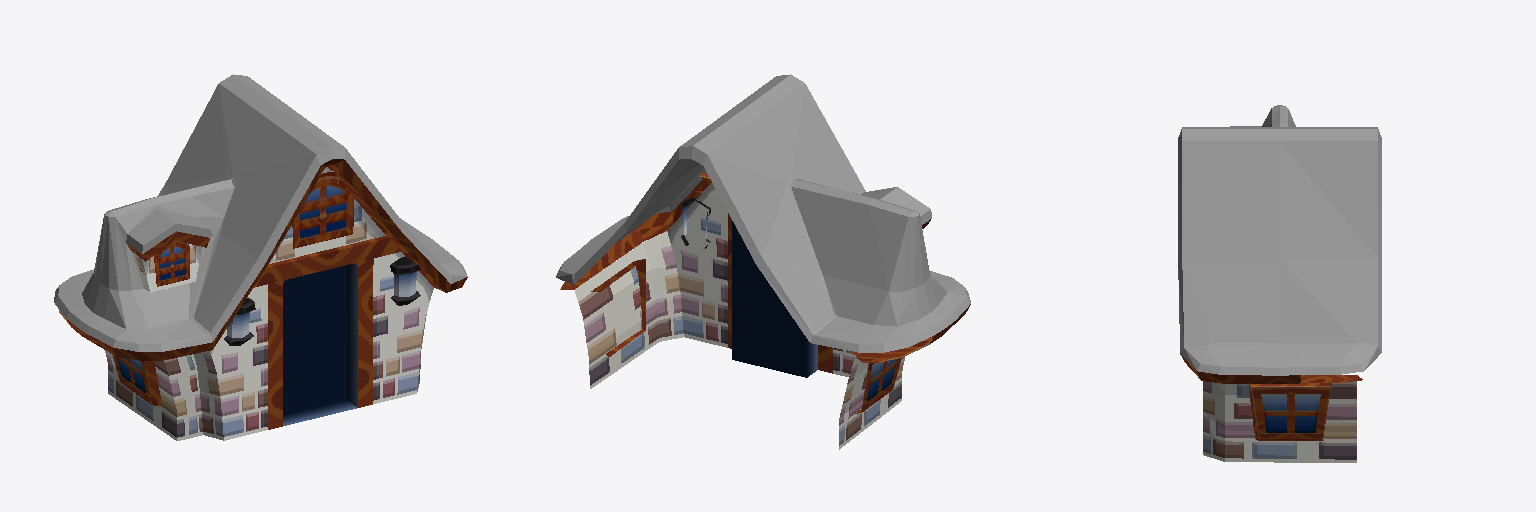
3 renders of one model, left to right at view 1: azimuth 30°, elevation 25°; view 2: azimuth 150°, elevation 25°; view 3: azimuth 270°, elevation 25°, orthographic.
Parts seen in each view (by area): view 1: vsn_mesh_0__mesh_0_.011, vsn_mesh_2__mesh_2_.003, vsn_mesh_1__mesh_1_.011; view 2: vsn_mesh_2__mesh_2_.003, vsn_mesh_0__mesh_0_.011; view 3: vsn_mesh_2__mesh_2_.003, vsn_mesh_0__mesh_0_.011.
Boxes of the visible parts, <box> form: vsn_mesh_0__mesh_0_.011: <box>59,159,467,440</box>; vsn_mesh_2__mesh_2_.003: <box>54,74,467,351</box>; vsn_mesh_1__mesh_1_.011: <box>224,257,420,345</box>; vsn_mesh_2__mesh_2_.003: <box>556,74,970,352</box>; vsn_mesh_0__mesh_0_.011: <box>560,173,970,449</box>; vsn_mesh_2__mesh_2_.003: <box>1178,105,1381,375</box>; vsn_mesh_0__mesh_0_.011: <box>1180,354,1362,462</box>.
Size of the model in its own units: 1.51 by 1.12 by 0.74.
3 materials, 1 textured.